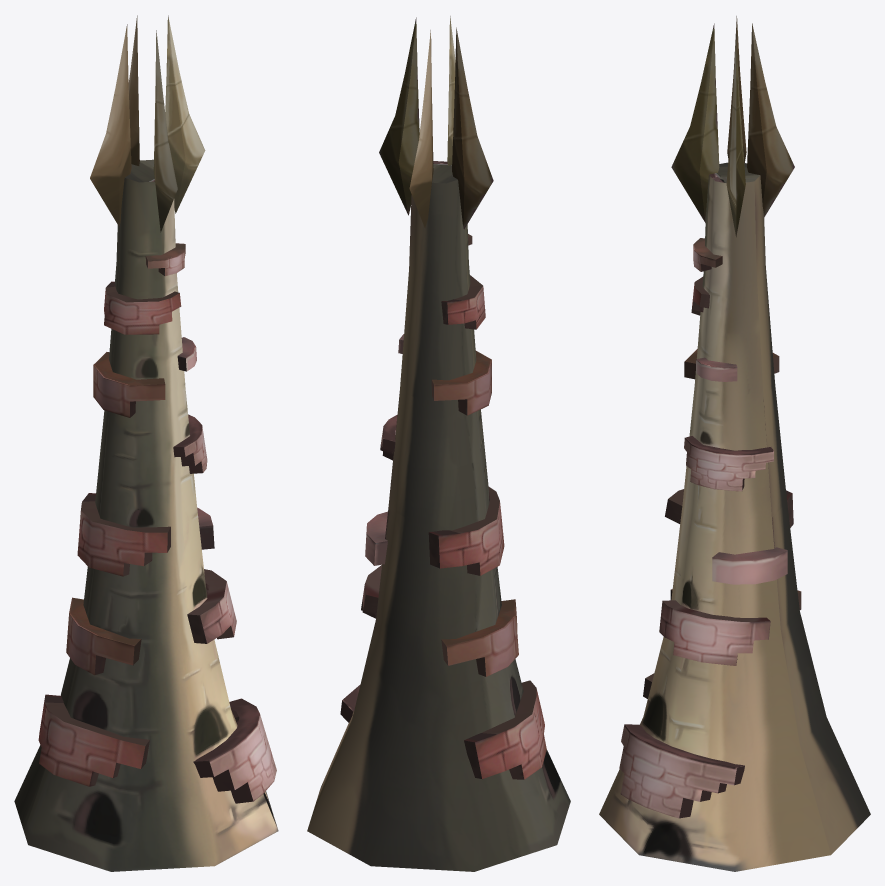
The model's file is tower.fbx.
3 renders of one model, left to right at view 1: azimuth 30°, elevation 25°; view 2: azimuth 150°, elevation 25°; view 3: azimuth 270°, elevation 25°, orthographic.
Visible parts, largest first — view 1: mota; view 2: mota; view 3: mota.
Boxes of the visible parts, left/top/right/bottom form: mota: left=14, top=15, right=278, bottom=871; mota: left=307, top=16, right=570, bottom=871; mota: left=599, top=16, right=870, bottom=871.
Size of the model in its own units: 47.18 by 152 by 47.18.
Materials: 1 (1 with a texture image).
